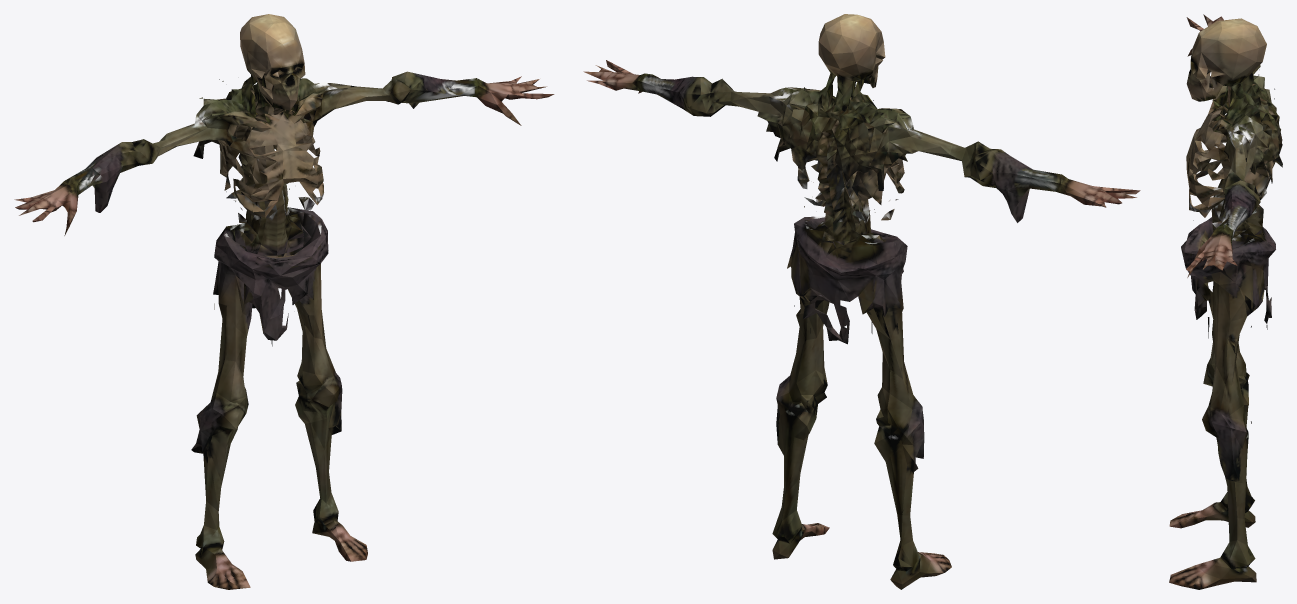
File: plague_zombie.gltf
The picture shows the model from 3 angles, left to right: view 1: azimuth 30°, elevation 25°; view 2: azimuth 150°, elevation 25°; view 3: azimuth 270°, elevation 25°; orthographic projection. The views are drawn at different scales.
Visible parts, largest first — view 1: plague_zombie; view 2: plague_zombie; view 3: plague_zombie.
Boxes of the visible parts, x1,y1,x2,y2 form: plague_zombie: (14,14,554,589); plague_zombie: (583,14,1140,589); plague_zombie: (1169,14,1282,589).
Size of the model in its own units: 1 by 0.9632 by 0.1872.
Materials: 1 (1 with a texture image).
